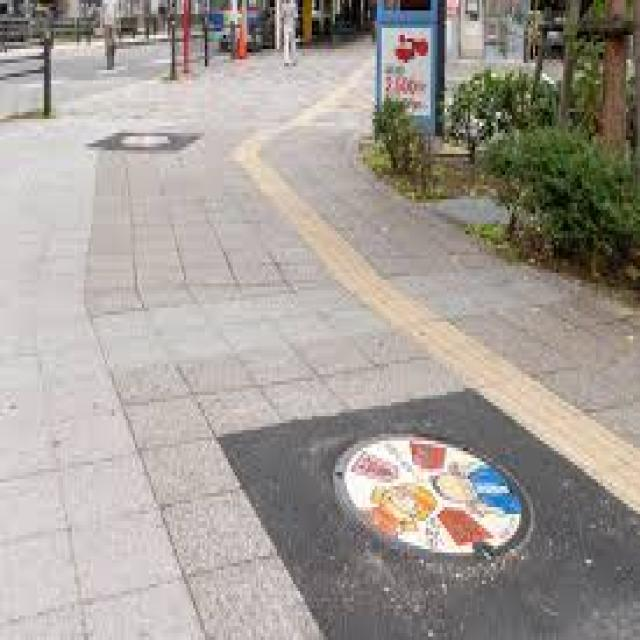manhole: (332, 431, 534, 566), (118, 134, 171, 149)
